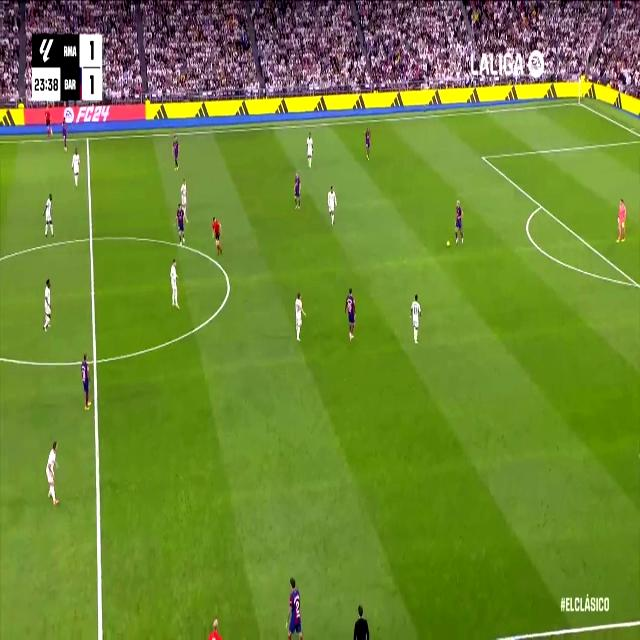bigarea_top_inner: (479, 148, 487, 164)
bottom_arc_area_intersection: (632, 273, 640, 293)
halfcircle_bottom: (90, 348, 100, 372)
halfcircle_top: (85, 226, 97, 250)
midline_top_intersection: (84, 132, 92, 145)
top_arc_area_intersection: (537, 198, 545, 212)
